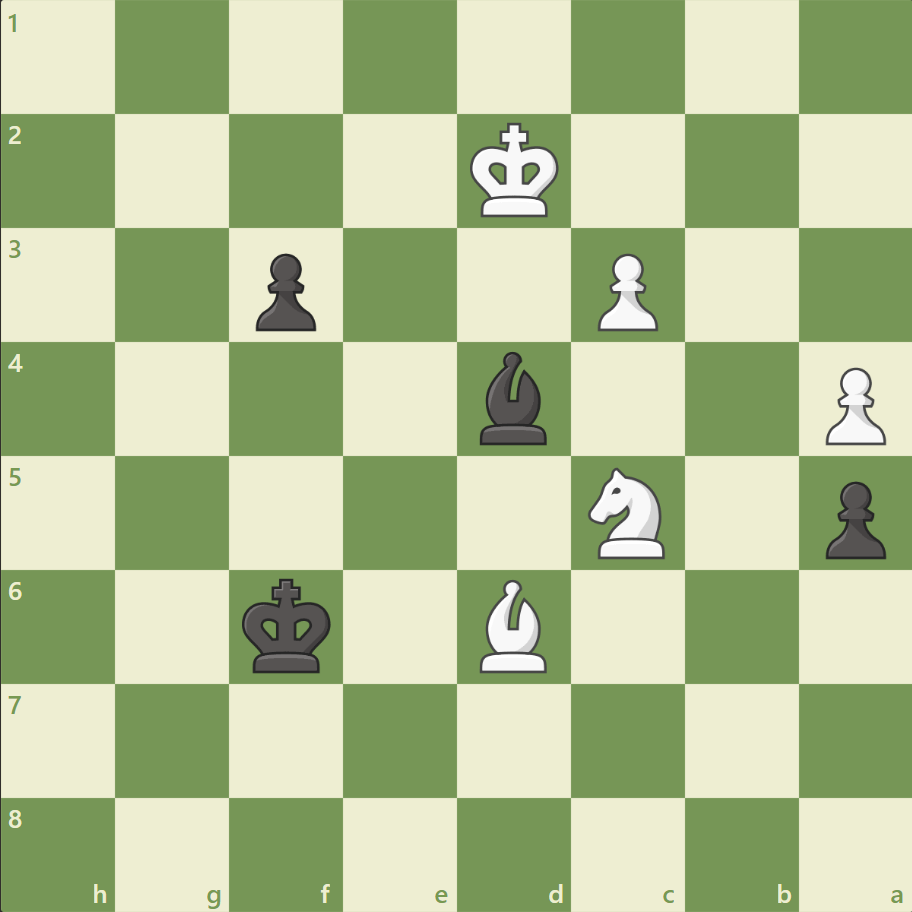B: (471, 574, 555, 676)
K: (465, 117, 565, 225)
N: (579, 461, 676, 564)
P: (815, 359, 889, 450), (588, 246, 662, 337)
b: (471, 347, 555, 449)
k: (238, 571, 338, 679)
p: (247, 246, 322, 337), (815, 473, 889, 564)
